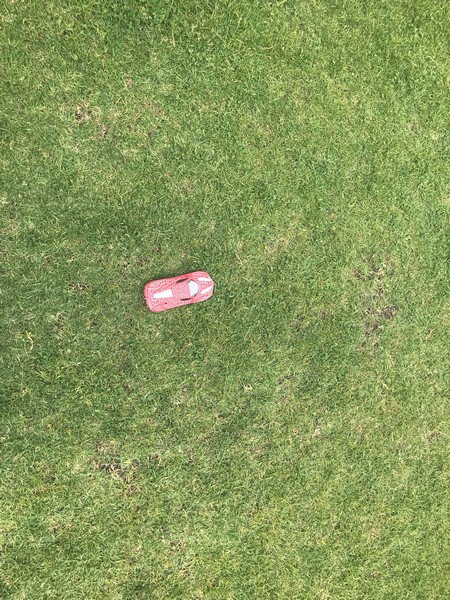RC: (143, 271, 216, 311)
